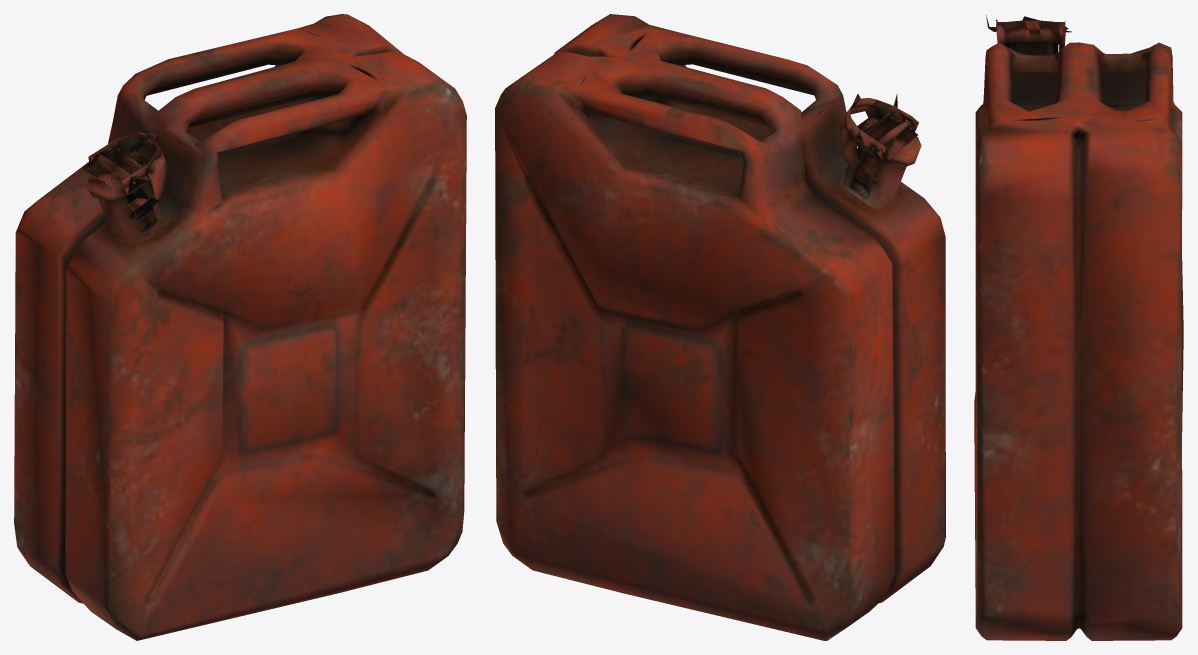
Rendered from metal_jerrycan.glb.
The picture shows the model from 3 angles, left to right: view 1: azimuth 30°, elevation 25°; view 2: azimuth 150°, elevation 25°; view 3: azimuth 270°, elevation 25°; orthographic projection. The views are drawn at different scales.
Visible parts, largest first — view 1: metal_jerrycan; view 2: metal_jerrycan; view 3: metal_jerrycan.
Part boxes in pixels (x1,y1,x2,y2): metal_jerrycan: (14, 14, 466, 640); metal_jerrycan: (495, 14, 945, 640); metal_jerrycan: (974, 15, 1183, 640).
Size of the model in its own units: 0.3481 by 0.4547 by 0.1716.
1 material, 1 textured.
